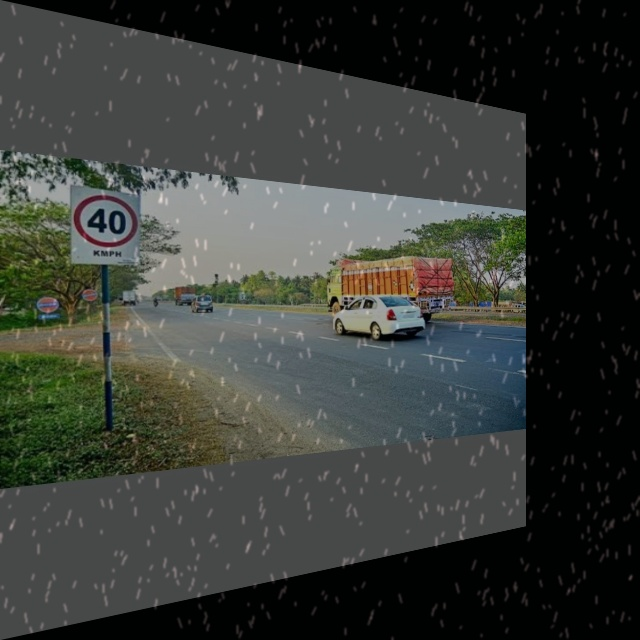Speed_Limit_40: (71, 182, 142, 270)
